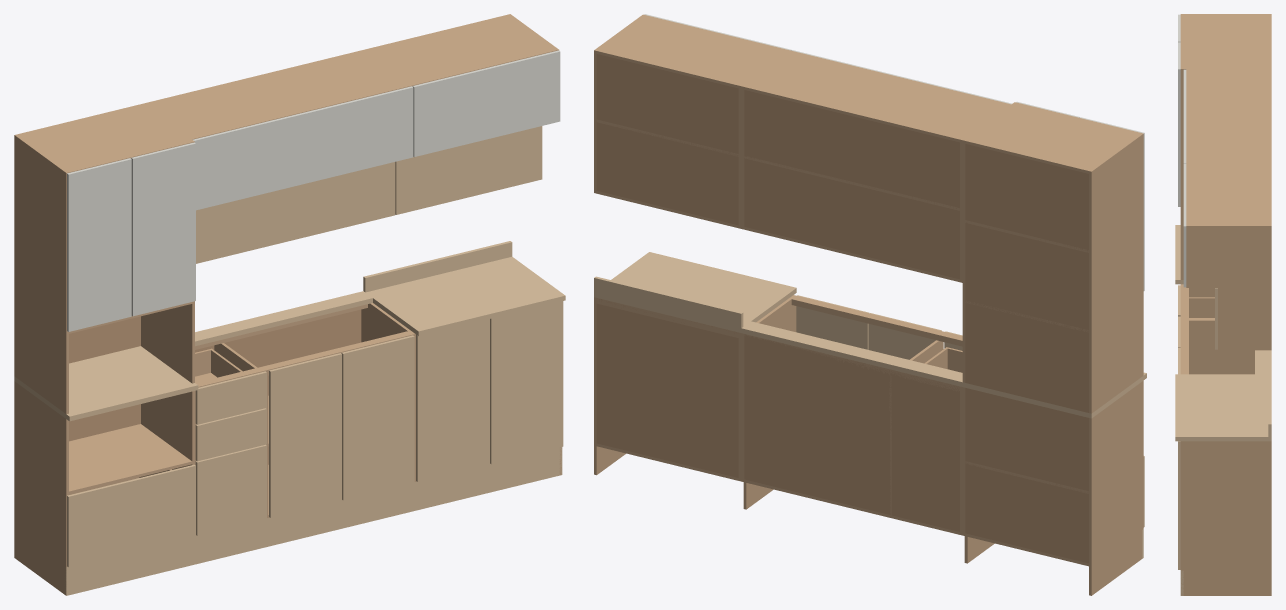
File: cozinha_homestyler.glb
The picture shows the model from 3 angles, left to right: view 1: azimuth 30°, elevation 25°; view 2: azimuth 150°, elevation 25°; view 3: azimuth 270°, elevation 25°; orthographic projection. The views are drawn at different scales.
Visible parts, largest first — view 1: Cozinha 270 x 220 cm; view 2: Cozinha 270 x 220 cm; view 3: Cozinha 270 x 220 cm.
Part boxes in pixels (x1,y1,x2,y2): Cozinha 270 x 220 cm: (14,14,565,595); Cozinha 270 x 220 cm: (594,14,1146,595); Cozinha 270 x 220 cm: (1175,14,1271,595).
Bounding box in the file's own units: 2.7 × 2.2 × 0.52.
